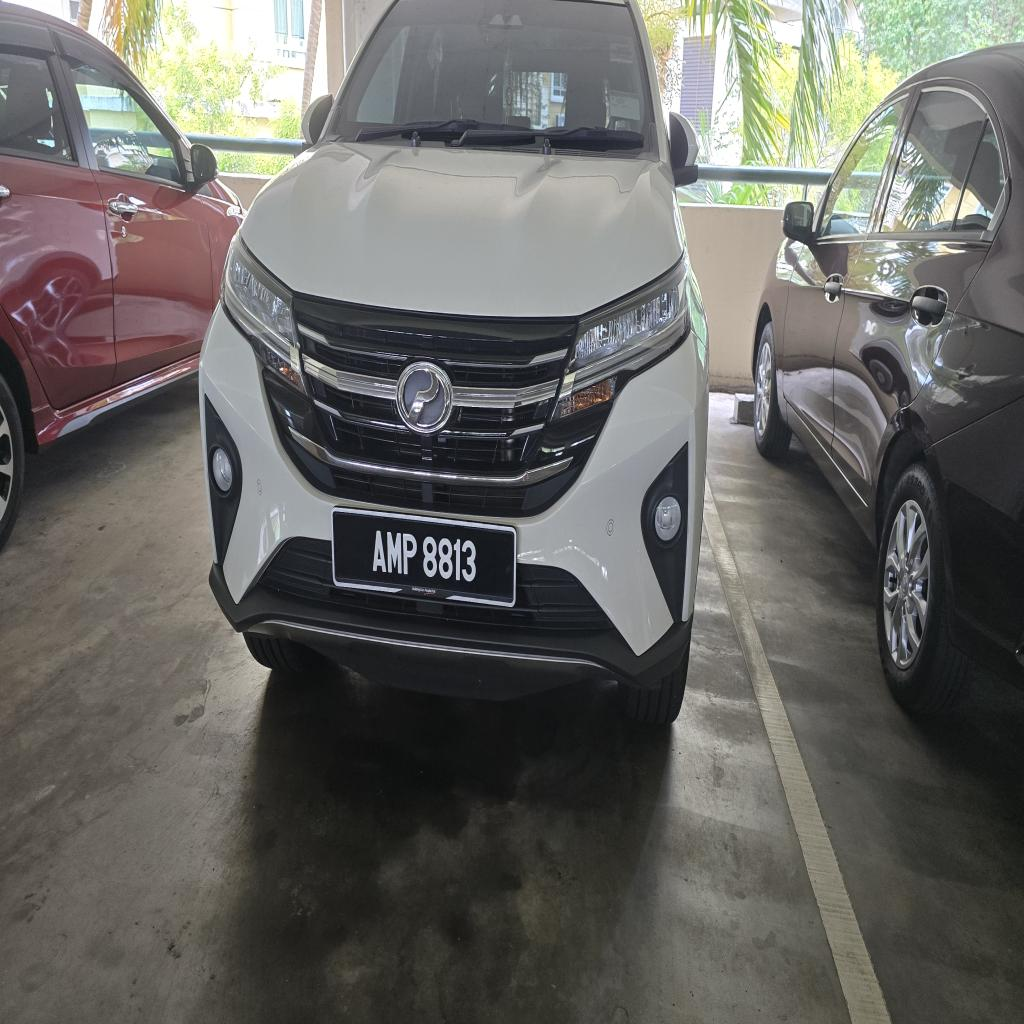car: (201, 0, 708, 722)
car plate: (333, 508, 516, 606)
